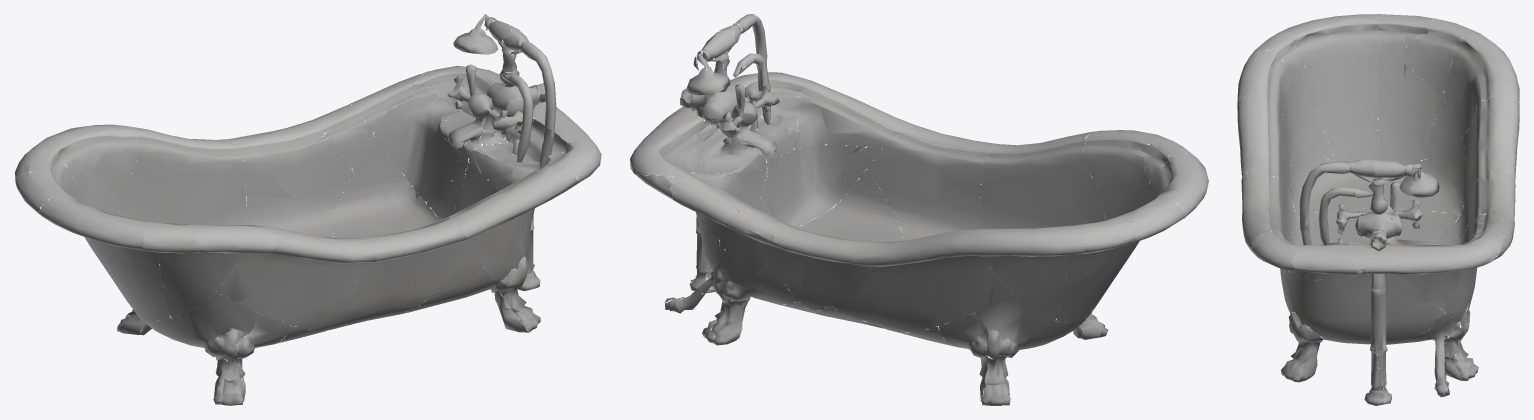
File: banera.glb
The picture shows the model from 3 angles, left to right: view 1: azimuth 30°, elevation 25°; view 2: azimuth 150°, elevation 25°; view 3: azimuth 270°, elevation 25°; orthographic projection. The views are drawn at different scales.
Parts seen in each view (by area): view 1: tripo_node_d99fbfe6-0986-4659-a6bf-01ba669763ff; view 2: tripo_node_d99fbfe6-0986-4659-a6bf-01ba669763ff; view 3: tripo_node_d99fbfe6-0986-4659-a6bf-01ba669763ff.
Boxes of the visible parts, x1,y1,x2,y2 form: tripo_node_d99fbfe6-0986-4659-a6bf-01ba669763ff: (15,14,601,405); tripo_node_d99fbfe6-0986-4659-a6bf-01ba669763ff: (630,14,1208,405); tripo_node_d99fbfe6-0986-4659-a6bf-01ba669763ff: (1237,14,1519,405).
Bounding box in the file's own units: 1 × 0.4838 × 0.527.
1 material, 1 textured.
